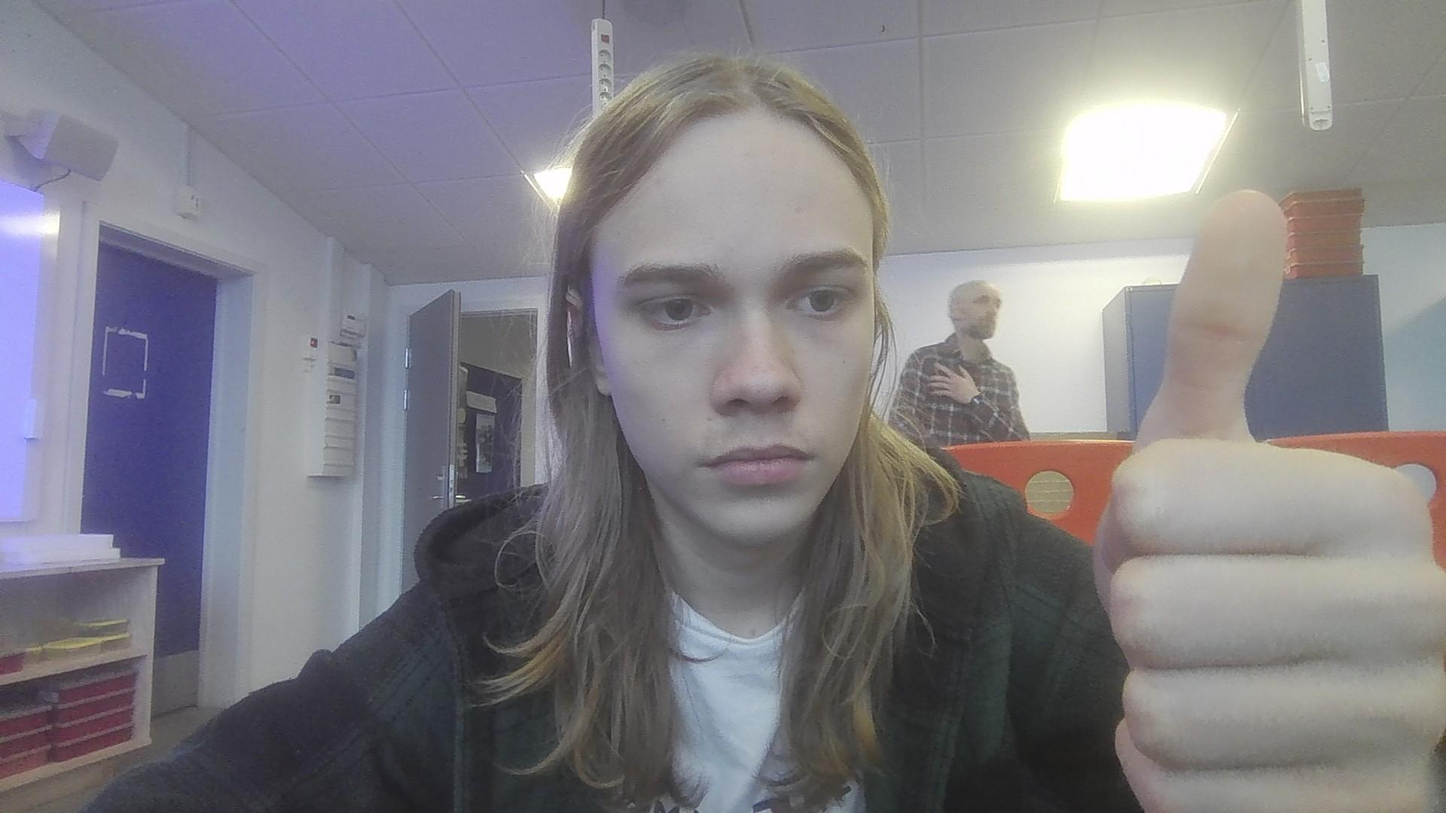thumbs up: (1081, 187, 1446, 813)
